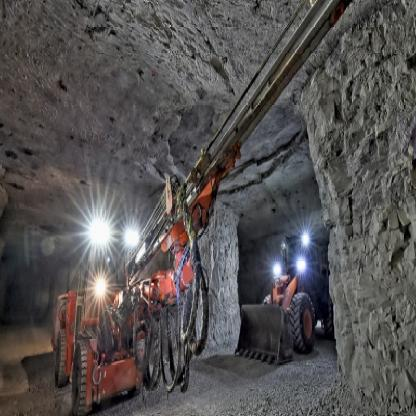bull_dozer/loader/grader: (226, 209, 362, 371)
